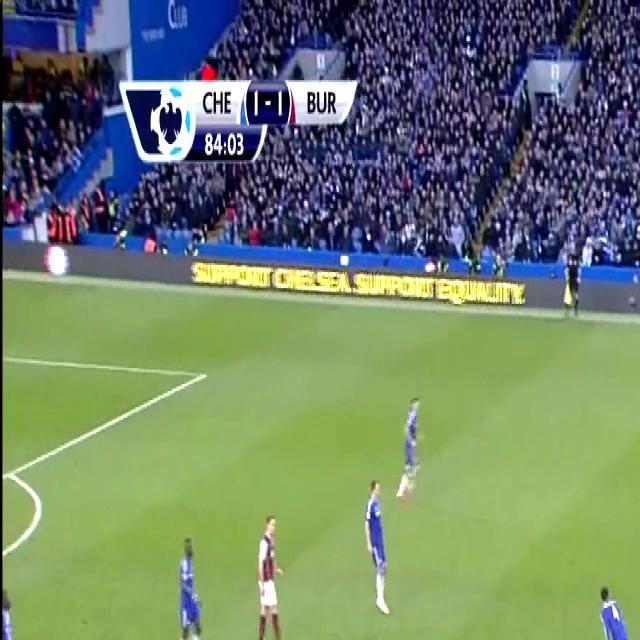referee: (559, 230, 587, 320)
soccer-player: (359, 469, 404, 625), (247, 499, 295, 640), (168, 519, 212, 640), (396, 382, 430, 507), (593, 572, 638, 640), (0, 549, 30, 640)
